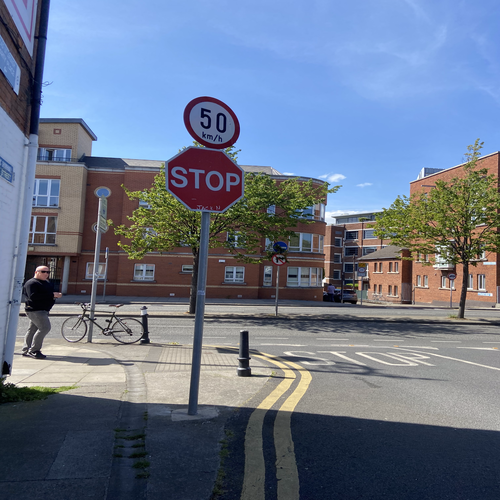Person: (26, 266, 55, 363)
Speed Limit: (185, 96, 242, 146)
Stop: (170, 146, 244, 214)
